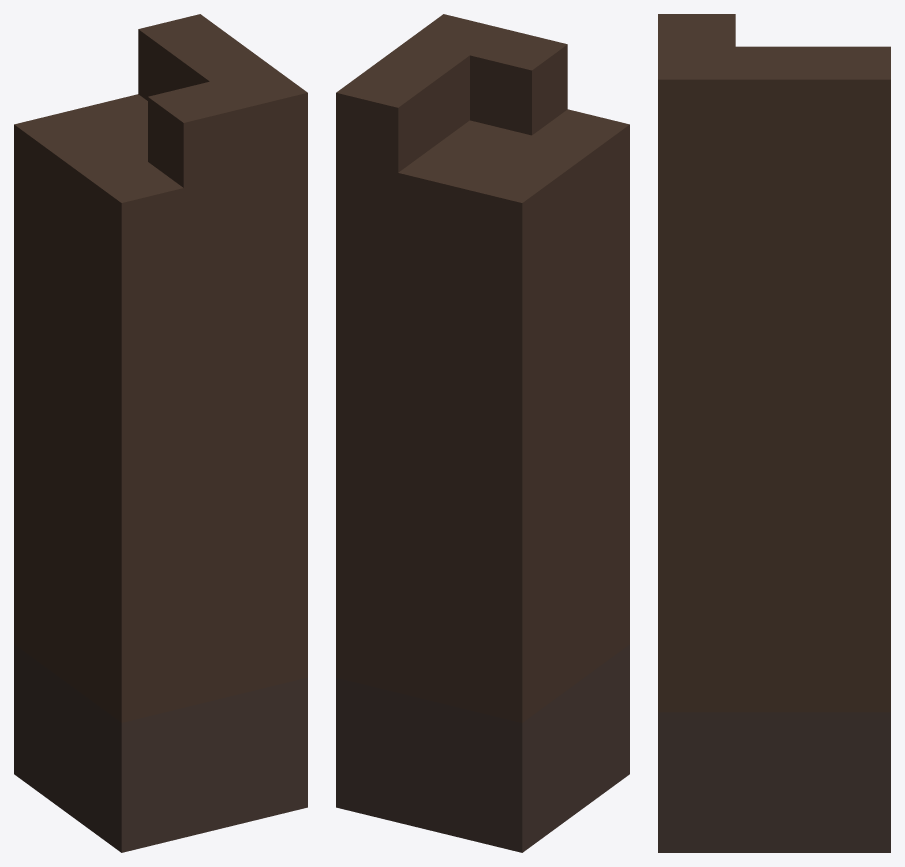
The model's file is goat__leg_fl.glb.
3 views of the same model, side by side, from view 1: azimuth 30°, elevation 25°; view 2: azimuth 150°, elevation 25°; view 3: azimuth 270°, elevation 25° (orthographic). The views are drawn at different scales.
Visible parts, largest first — view 1: goat__leg_fl; view 2: goat__leg_fl; view 3: goat__leg_fl.
Part boxes in pixels (bbox=[...]): goat__leg_fl: bbox=[14, 14, 307, 852]; goat__leg_fl: bbox=[336, 14, 629, 852]; goat__leg_fl: bbox=[658, 14, 890, 852].
Size of the model in its own units: 0.3 by 1.1 by 0.3.
1 material, 1 textured.
